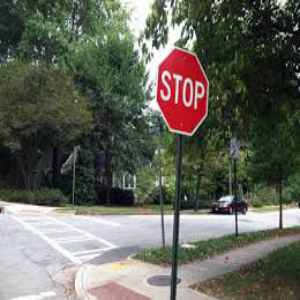STOP_SIGN: (155, 46, 209, 136)
